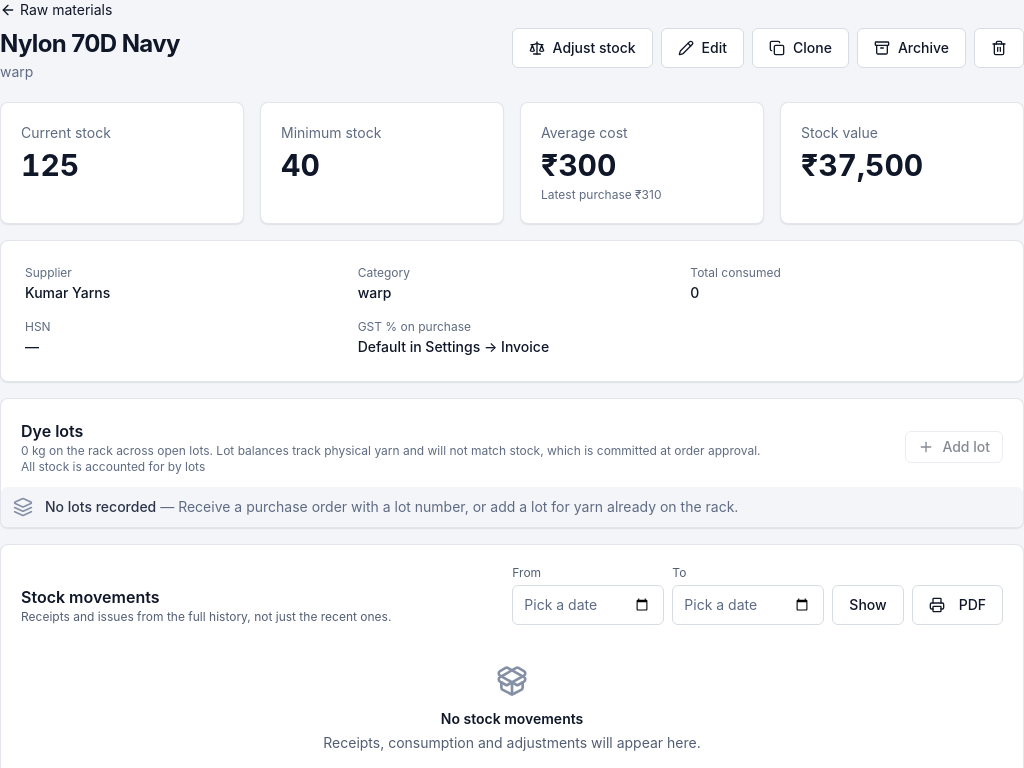
Scenario: cloning a raw material › will not save a clone without a name
Click the button "Clone": click(800, 48) [752,28,849,68]
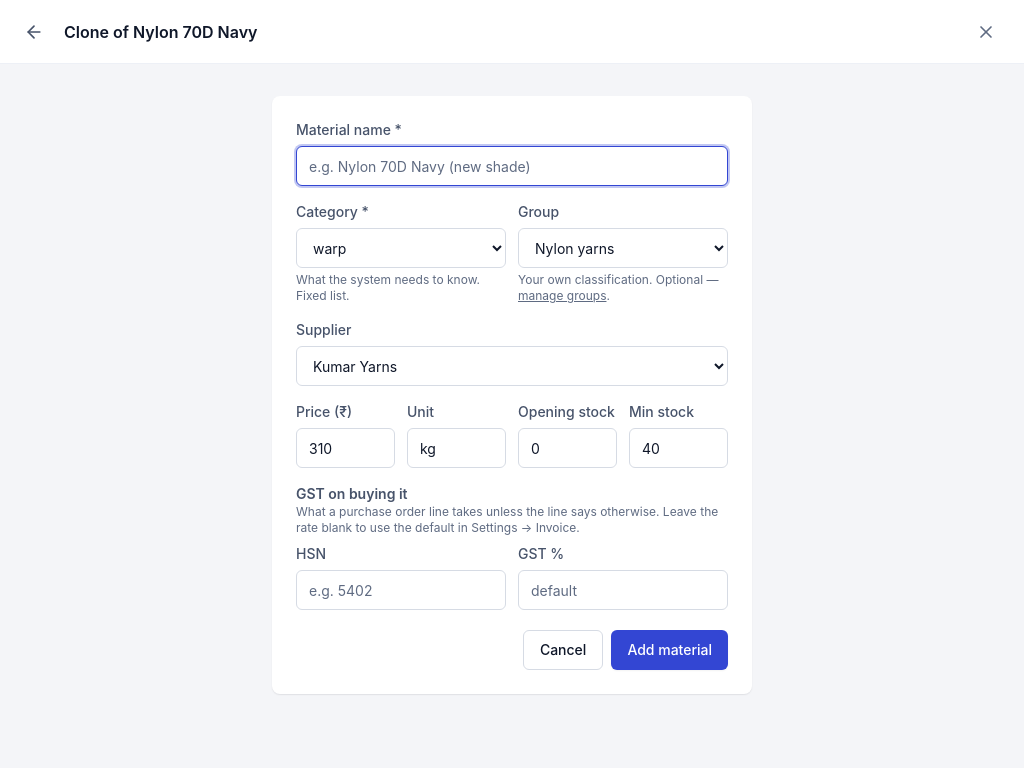
Click the button "Add material": click(670, 650) [611,630,728,670]
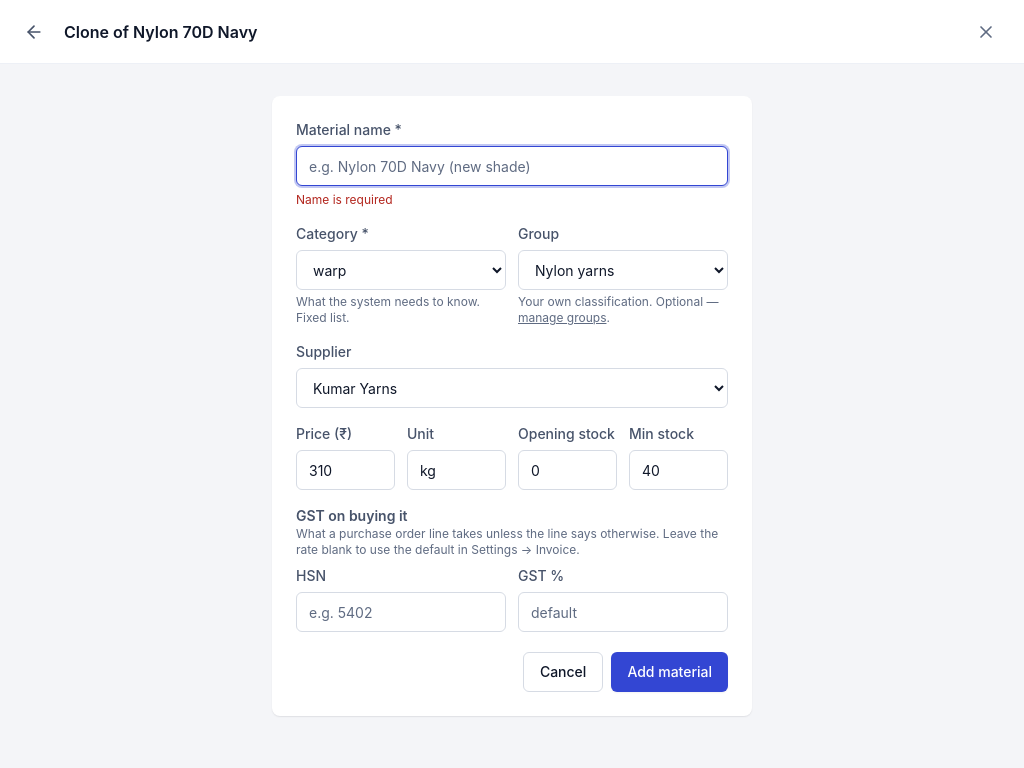
Result: the text "Name is required" is shown at [296,192,393,207]
